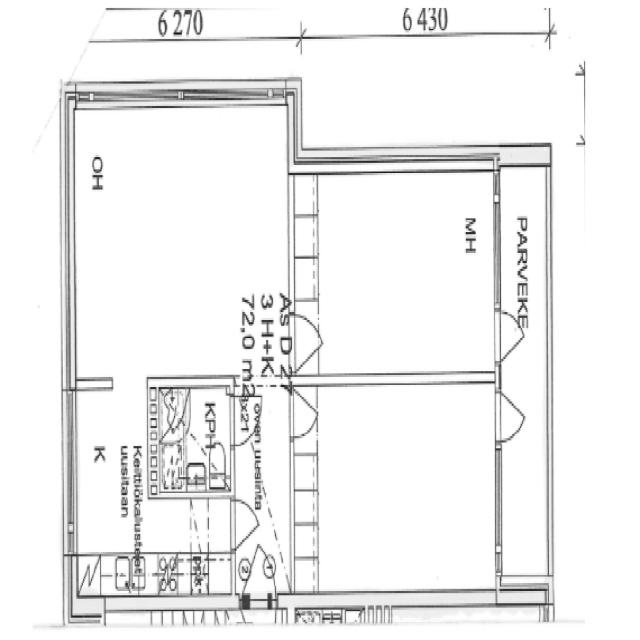door: (243, 545, 278, 617), (286, 381, 322, 447), (492, 383, 528, 447), (491, 301, 528, 363), (230, 497, 260, 544)
window: (487, 162, 509, 320), (489, 439, 508, 574)
zone: (68, 100, 296, 380), (296, 160, 500, 393), (294, 384, 503, 603), (68, 395, 242, 605), (148, 379, 234, 499)
